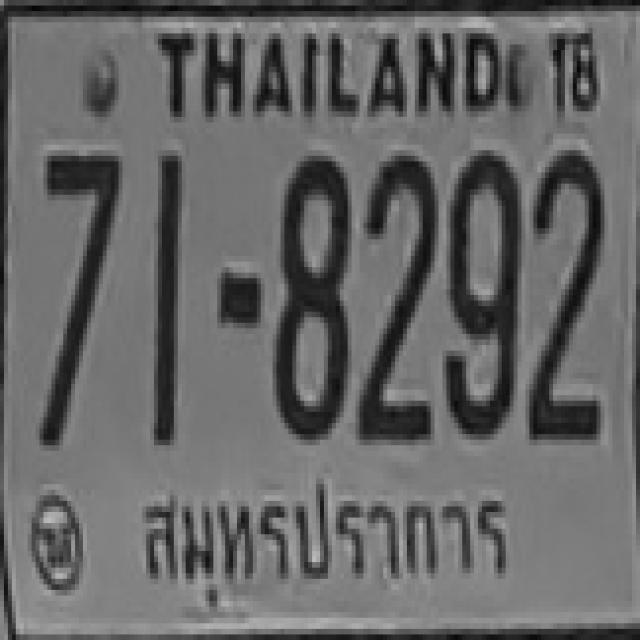1: (150, 150, 182, 434), (152, 153, 180, 409)
2: (356, 150, 434, 434), (526, 148, 600, 432), (528, 148, 602, 409), (360, 153, 434, 409)
7: (36, 150, 119, 440), (44, 150, 118, 434), (44, 150, 118, 412), (44, 153, 118, 337)
8: (272, 150, 348, 434)
9: (442, 150, 518, 434)
SamutPrakan: (135, 480, 520, 587)
